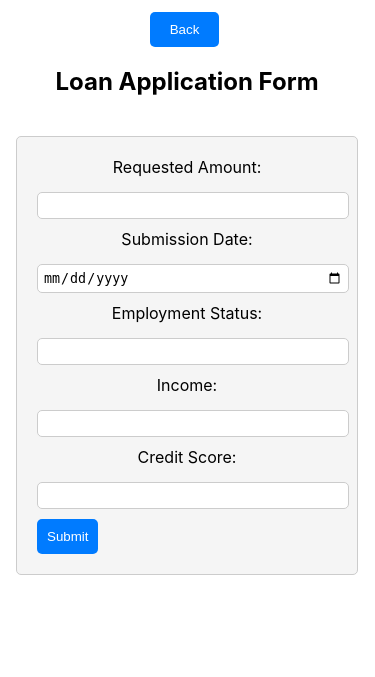
Test: loanapplicationform_component › should_show_validation_errors_for_empty_fields
# Click the submit button without filling out the form
Click the button "Submit".
click(68, 537)  # box [37,519,98,554]
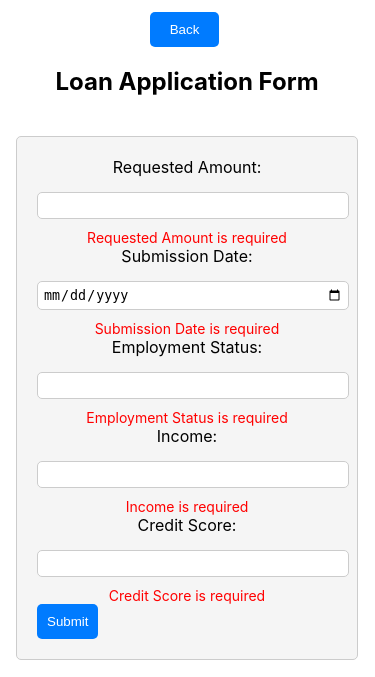
Expected: the text "Requested Amount is required" is shown, [87,229,287,246]
Expected: the text "Submission Date is required" is shown, [95,320,279,337]
Expected: the text "Employment Status is required" is shown, [86,409,288,426]
